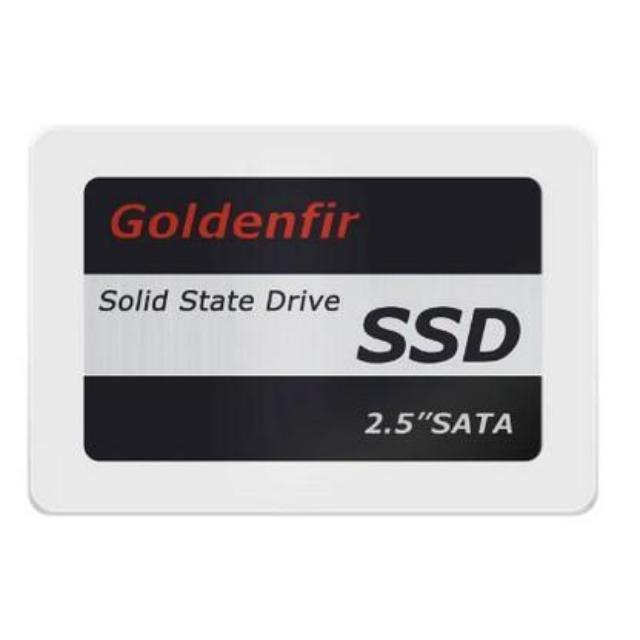DISK: (19, 120, 604, 526)
